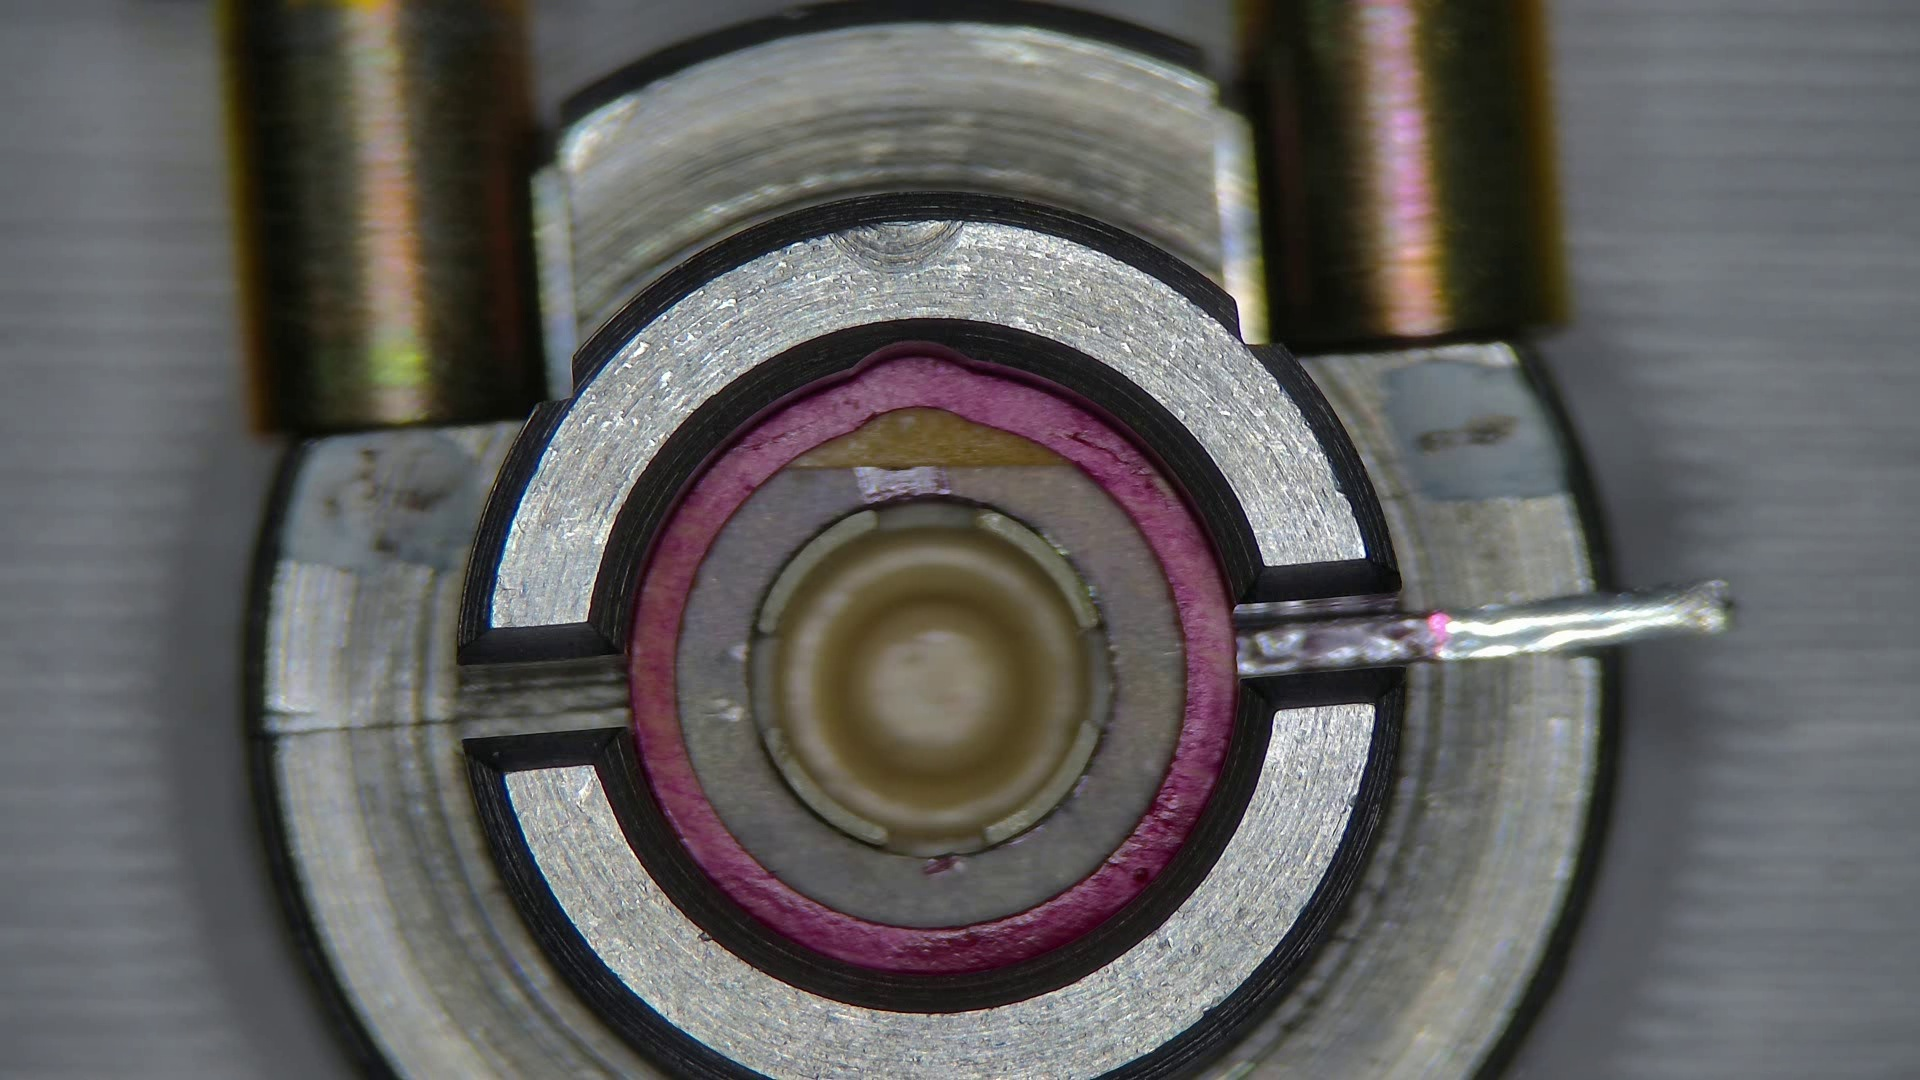GreyOring: (629, 355, 1236, 973)
YellowOring: (676, 463, 1180, 926)
redOring: (785, 410, 1076, 471)
